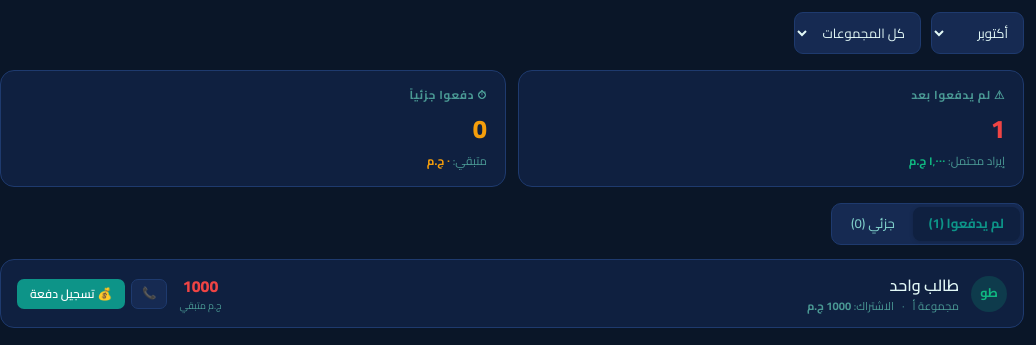
Test: UnpaidStudents — paidSoFar/partialRemaining are net of active refunds (BUG-02, remaining part) › a 300 refund on a partial payment raises the remaining balance (paidSoFar nets the refund)
Click the button "جزئي (0)": (873, 224) [835,207,911,241]
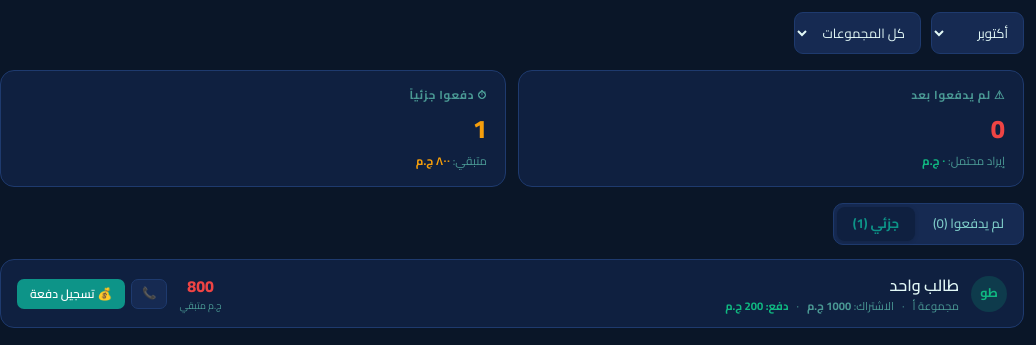
Check: the text "متبقي: ٨٠٠ ج.م" is shown, box [416,150,487,172]
Check: the text "دفع: 200 ج.م" is shown, box [725,298,788,314]
Check: the text "800" is shown, box [187,271,214,301]
